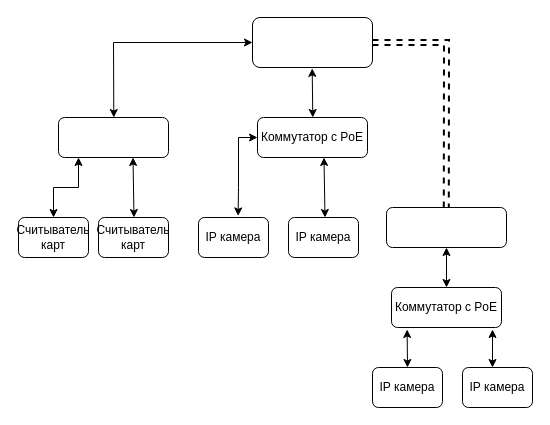
Some shapes in this 550 by 425 pixel diagram are drawn without their labels. The centre of each missing label's shape, as x and y in pixels:
Wi-Fi роутер: the point at 446,227
Коммуникационный модуль TN723: the point at 113,137
ПЛК ЭЛСИ ТМК: the point at 312,42
